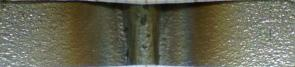soldas: (70, 2, 220, 65)
